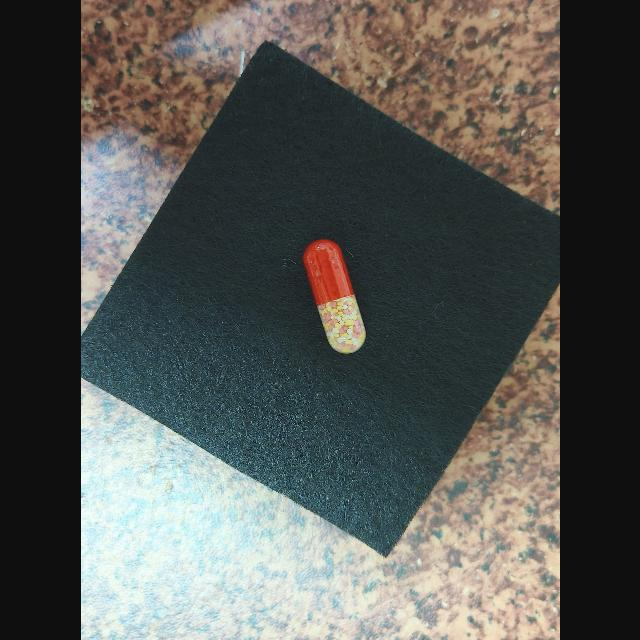Intact Capsule: (302, 239, 365, 353)
